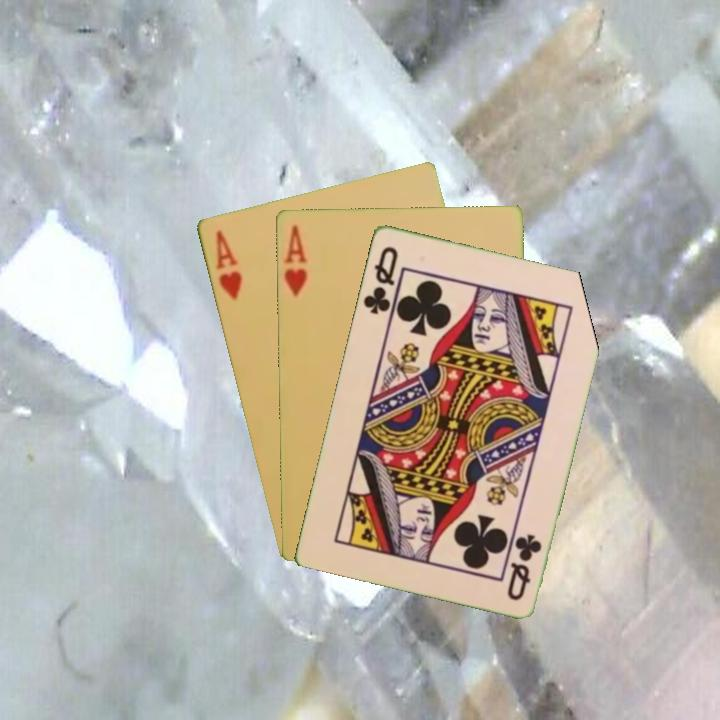Ah: (211, 226, 245, 303), (280, 221, 310, 299)
Qc: (359, 242, 401, 317), (503, 529, 545, 603)
